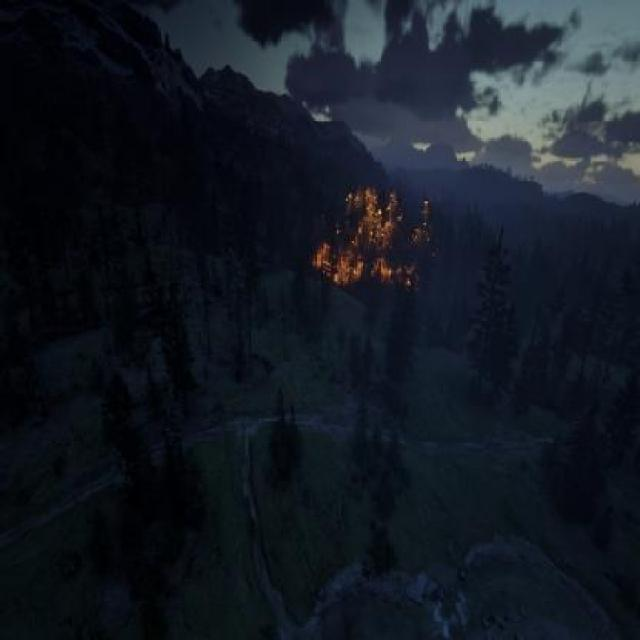Fire: (296, 175, 418, 308)
